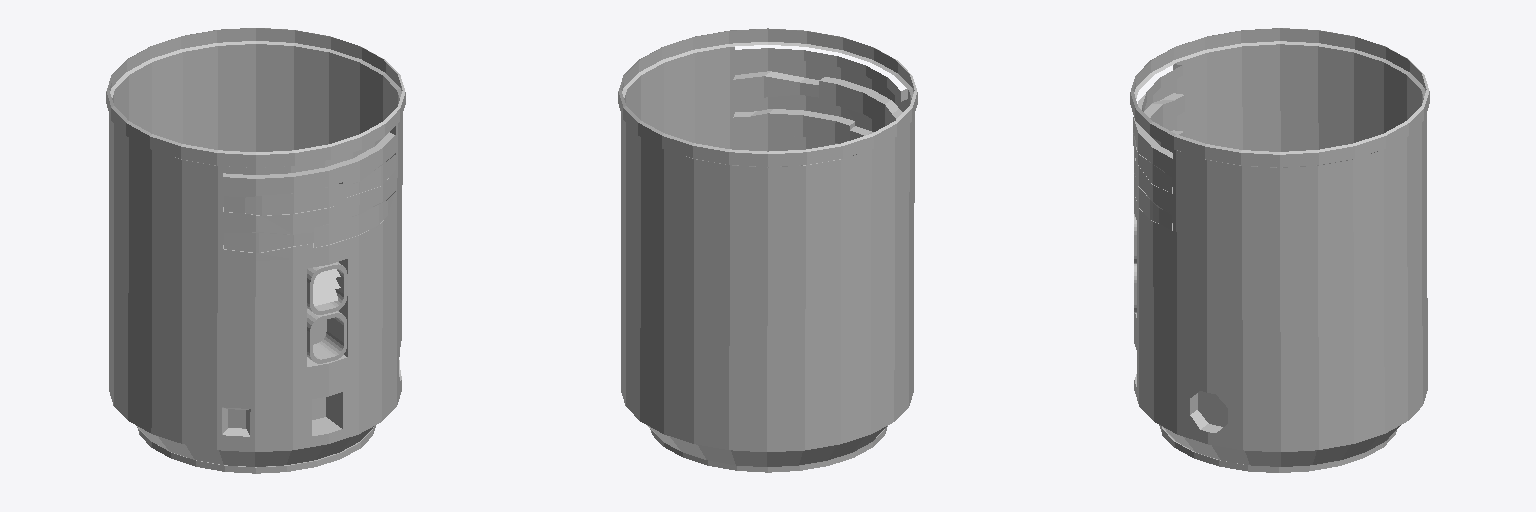
File: bodyR2D2.obj
The picture shows the model from 3 angles: view 1: azimuth 30°, elevation 25°; view 2: azimuth 150°, elevation 25°; view 3: azimuth 270°, elevation 25°; orthographic projection.
Visible parts, largest first — view 1: r2d2; view 2: r2d2; view 3: r2d2.
Boxes of the visible parts, <box> form: r2d2: <box>106,28,405,473</box>; r2d2: <box>618,28,917,472</box>; r2d2: <box>1130,28,1429,472</box>.
Size of the model in its own units: 2.41 by 2.96 by 2.41.